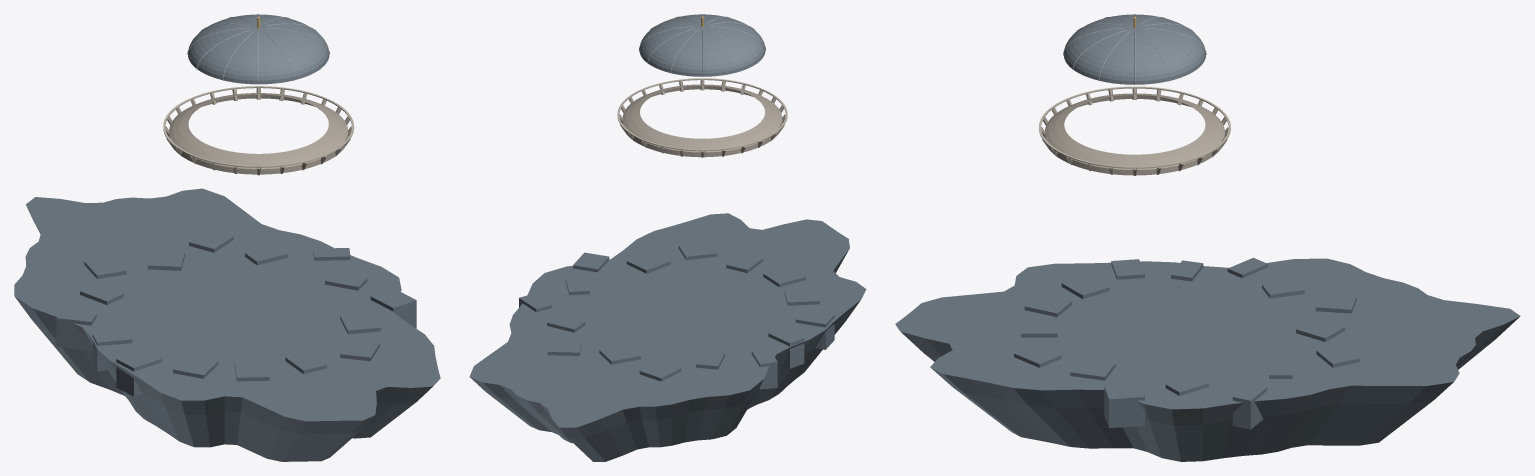
File: SM_Shell_Exterior.fbx
The picture shows the model from 3 angles, left to right: view 1: azimuth 30°, elevation 25°; view 2: azimuth 150°, elevation 25°; view 3: azimuth 270°, elevation 25°; orthographic projection. The views are drawn at different scales.
Parts seen in each view (by area): view 1: SM_Rock_Island_LOD0, SM_Roof_Lantern_Dome, SM_Cornice_Profile_6, SM_Cornice_Profile_5, SM_Rock_Outcrop_5, SM_Cornice_Drip, SM_Cornice_Profile_3, SM_Rock_Outcrop_3, SM_Rock_Outcrop_13, SM_Rock_Outcrop_4, SM_Cornice_Profile_4, SM_Rock_Outcrop_2 (+11 smaller); view 2: SM_Rock_Island_LOD0, SM_Roof_Lantern_Dome, SM_Cornice_Profile_6, SM_Cornice_Profile_5, SM_Cornice_Drip, SM_Cornice_Profile_3, SM_Rock_Outcrop_4, SM_Rock_Outcrop_3, SM_Rock_Outcrop_5, SM_Cornice_Profile_4, SM_Rock_Outcrop_14, SM_Rock_Outcrop_8 (+9 smaller); view 3: SM_Rock_Island_LOD0, SM_Roof_Lantern_Dome, SM_Cornice_Profile_6, SM_Cornice_Profile_5, SM_Rock_Outcrop_13, SM_Cornice_Drip, SM_Cornice_Profile_3, SM_Rock_Outcrop_11, SM_Rock_Outcrop_8, SM_Rock_Outcrop_2, SM_Rock_Outcrop_1, SM_Rock_Outcrop_14 (+4 smaller).
Boxes of the visible parts, x1,y1,x2,y2 form: SM_Rock_Island_LOD0: [14, 188, 440, 461]; SM_Roof_Lantern_Dome: [188, 14, 329, 84]; SM_Cornice_Profile_6: [179, 93, 337, 159]; SM_Cornice_Profile_5: [172, 93, 344, 165]; SM_Rock_Outcrop_5: [56, 309, 96, 350]; SM_Cornice_Drip: [163, 86, 354, 167]; SM_Cornice_Profile_3: [168, 94, 348, 174]; SM_Rock_Outcrop_3: [116, 349, 161, 396]; SM_Rock_Outcrop_13: [370, 288, 416, 328]; SM_Rock_Outcrop_4: [92, 330, 132, 371]; SM_Cornice_Profile_4: [169, 104, 348, 169]; SM_Rock_Outcrop_2: [173, 355, 218, 378]; SM_Rock_Island_LOD0: [469, 213, 866, 461]; SM_Roof_Lantern_Dome: [639, 14, 765, 76]; SM_Cornice_Profile_6: [632, 84, 772, 144]; SM_Cornice_Profile_5: [626, 84, 779, 149]; SM_Cornice_Drip: [617, 78, 787, 151]; SM_Cornice_Profile_3: [622, 86, 782, 157]; SM_Rock_Outcrop_4: [768, 328, 804, 368]; SM_Rock_Outcrop_3: [795, 309, 834, 349]; SM_Rock_Outcrop_5: [751, 349, 777, 389]; SM_Cornice_Profile_4: [622, 94, 782, 152]; SM_Rock_Outcrop_14: [626, 252, 670, 273]; SM_Rock_Outcrop_8: [599, 344, 640, 364]; SM_Rock_Island_LOD0: [895, 258, 1520, 461]; SM_Roof_Lantern_Dome: [1063, 14, 1205, 84]; SM_Cornice_Profile_6: [1055, 93, 1214, 160]; SM_Cornice_Profile_5: [1048, 93, 1221, 166]; SM_Rock_Outcrop_13: [1104, 384, 1144, 427]; SM_Cornice_Drip: [1039, 86, 1230, 168]; SM_Cornice_Profile_3: [1044, 95, 1225, 175]; SM_Rock_Outcrop_11: [1232, 383, 1267, 429]; SM_Rock_Outcrop_8: [1296, 317, 1345, 341]; SM_Rock_Outcrop_2: [1061, 275, 1109, 298]; SM_Rock_Outcrop_1: [1024, 294, 1072, 316]; SM_Rock_Outcrop_14: [1070, 358, 1115, 380].
Size of what is drawn, in the model's own units: 1570 by 1890 by 2749.
